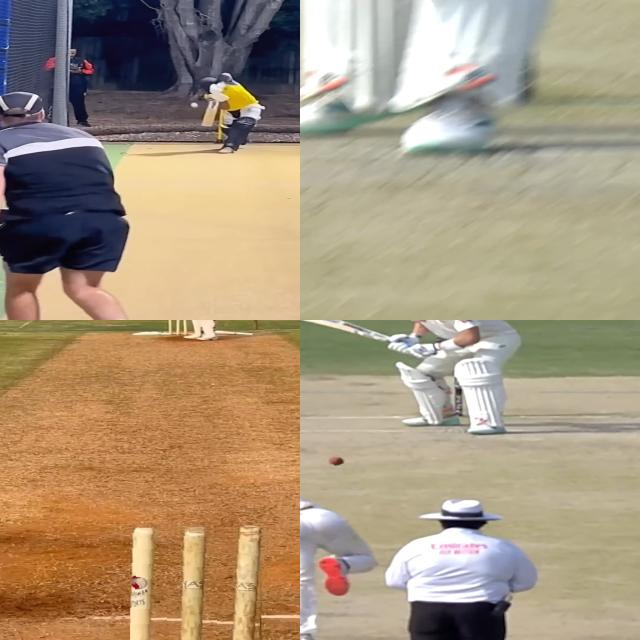Cricket ball: (326, 455, 345, 466), (189, 102, 199, 108)
Stumps: (129, 525, 266, 640), (165, 320, 190, 337)
